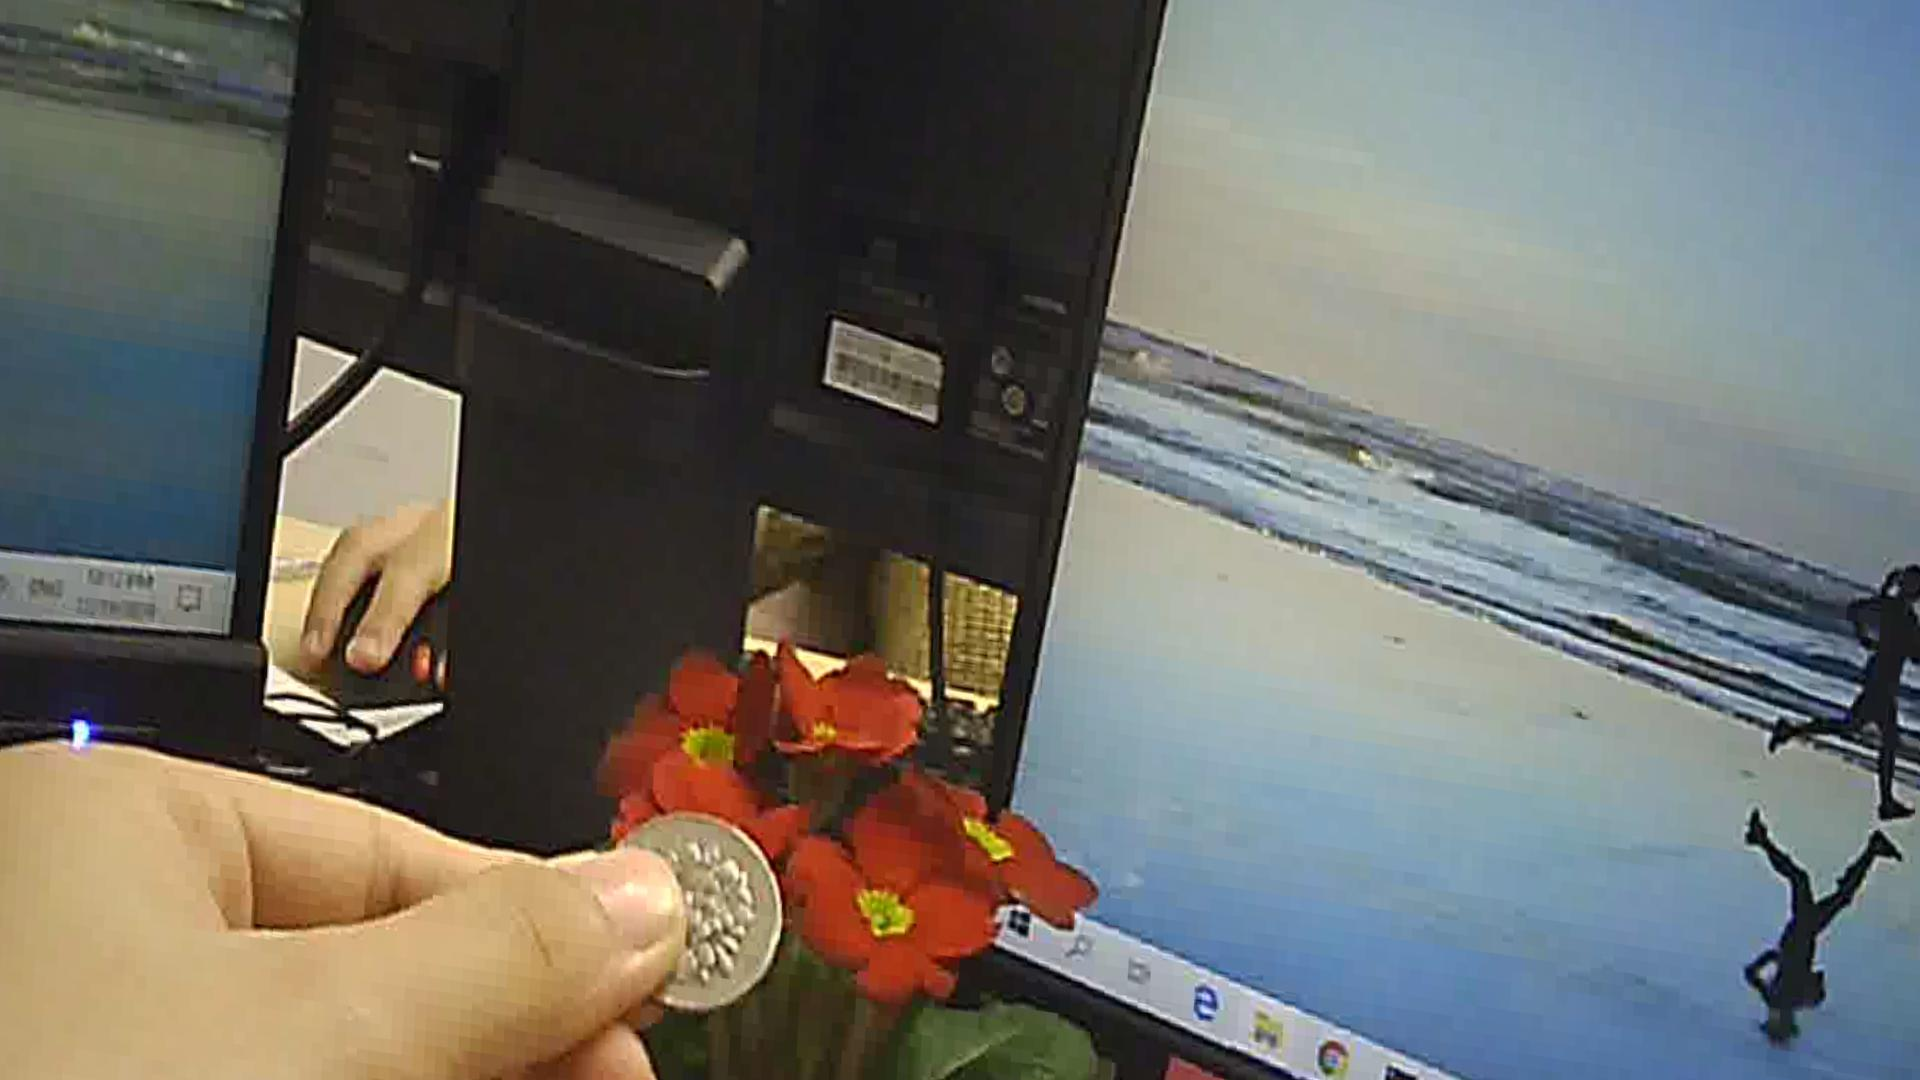100 Yen: (592, 800, 816, 1013)
